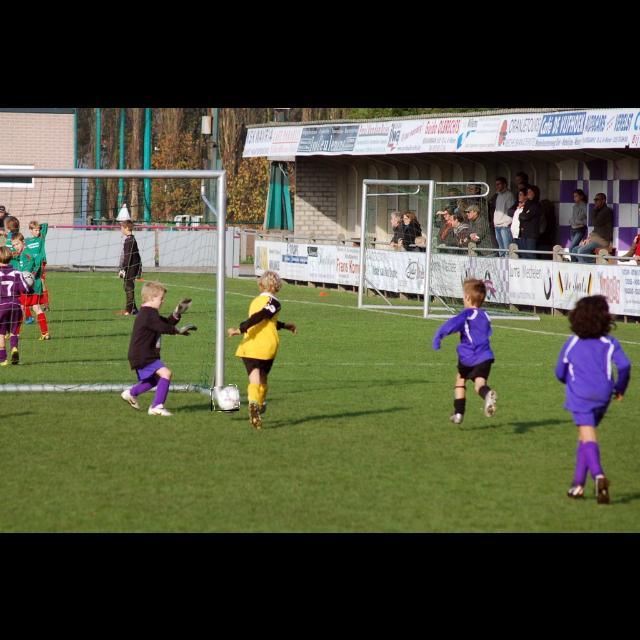Football: (211, 385, 239, 411)
